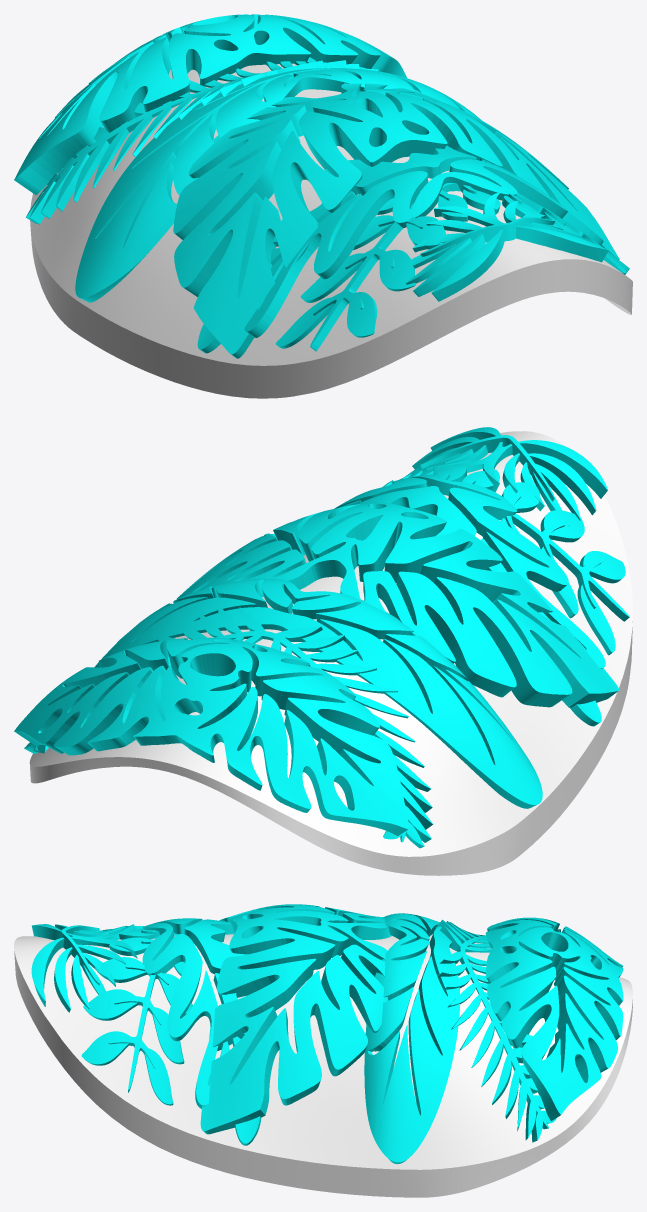
The model's file is jungle-oval-web.glb.
3 renders of one model, top to bottom at view 1: azimuth 30°, elevation 25°; view 2: azimuth 150°, elevation 25°; view 3: azimuth 270°, elevation 25°, orthographic. The views are drawn at different scales.
Size of the model in its own units: 0.0144 by 0.00674 by 0.0201.
